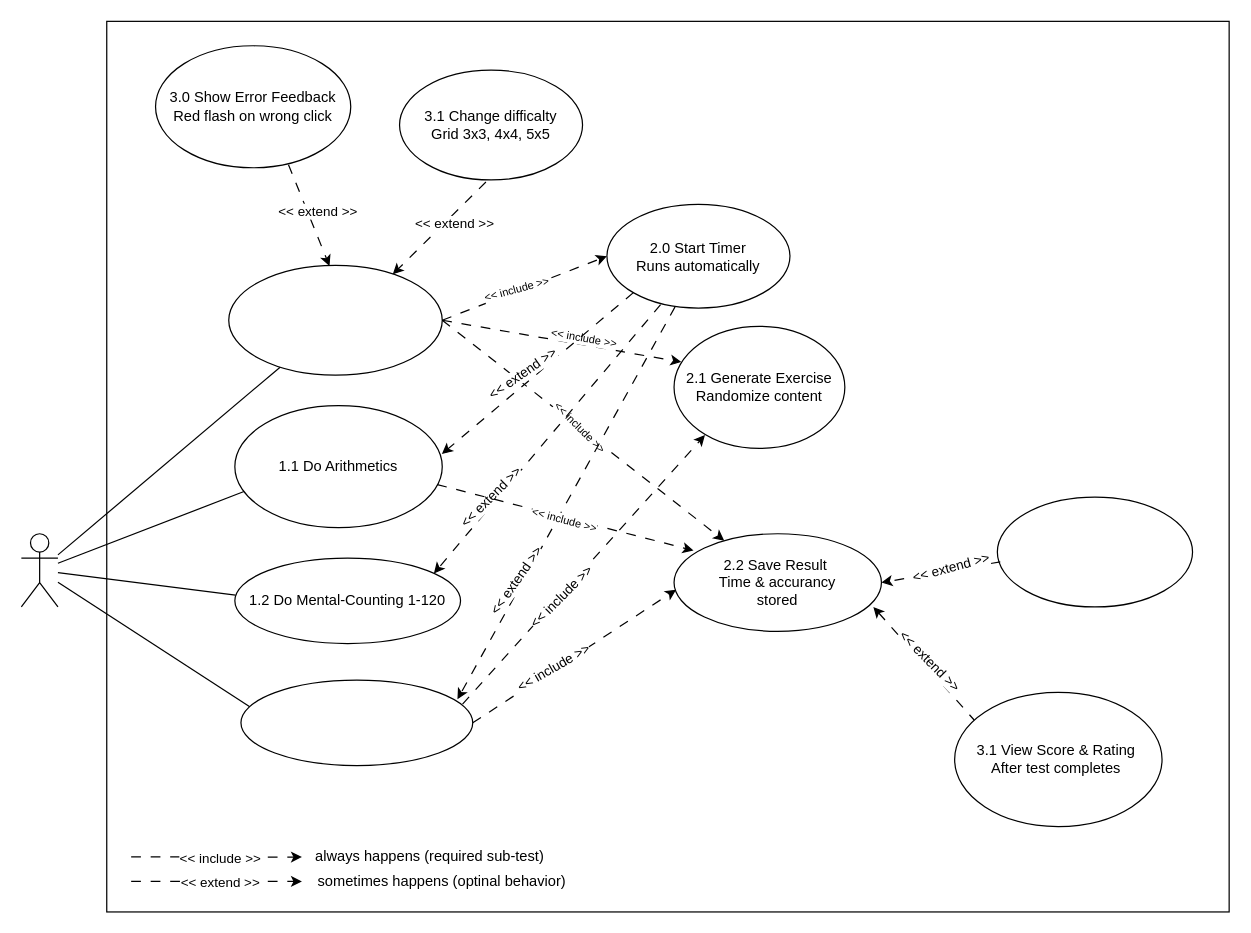
The diagram is 1251 pixels wide and 933 high, and some of its shapes have lost their labels. The shapes that lost their labels are listed below. From the top down, each one's centre as x and y in pixels, then its label:
At point 335,319: "1.0 Do Shulte Table Exercise".
At point 39,570: "User".
At point 1094,551: "3.0 View Progress 60-day training chart".
At point 356,722: "1.3 Do Stroop Test".
